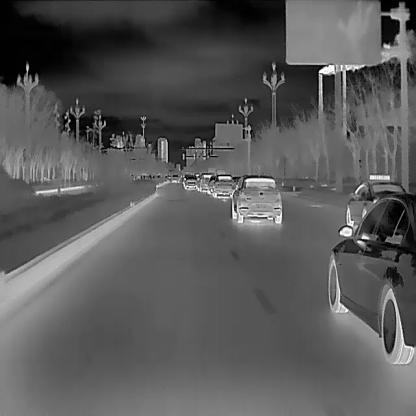car: (327, 192, 416, 366), (345, 172, 408, 226), (230, 174, 283, 223), (212, 173, 235, 197), (197, 172, 217, 191), (205, 174, 220, 193), (181, 173, 197, 189), (170, 173, 178, 183)
